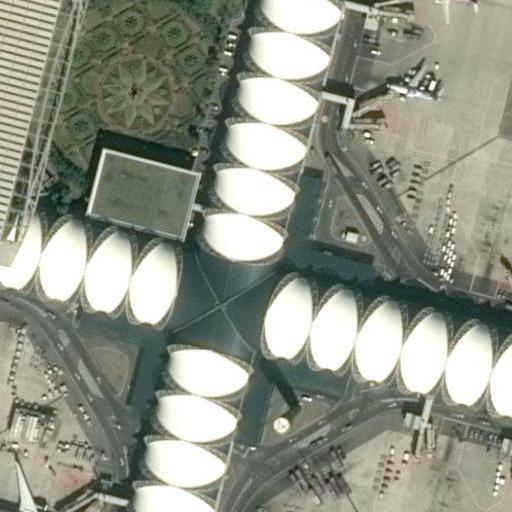Aircraft: (0, 454, 80, 512), (380, 61, 449, 113), (415, 0, 481, 23)
